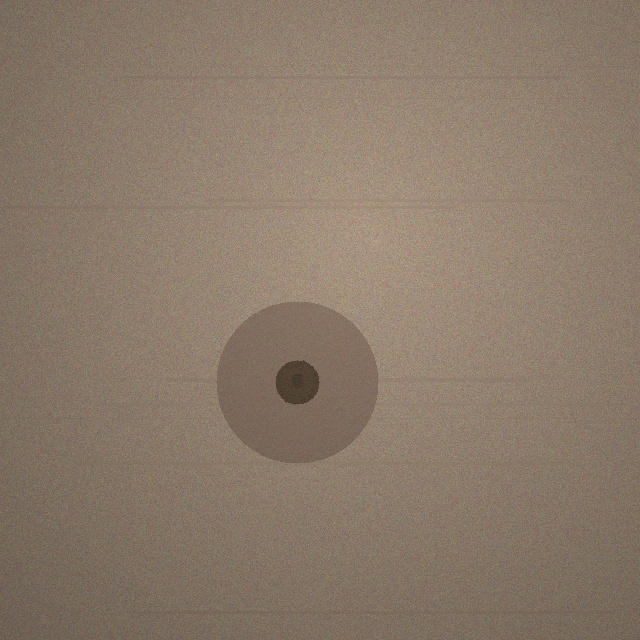cold_weld: (216, 301, 378, 463)
